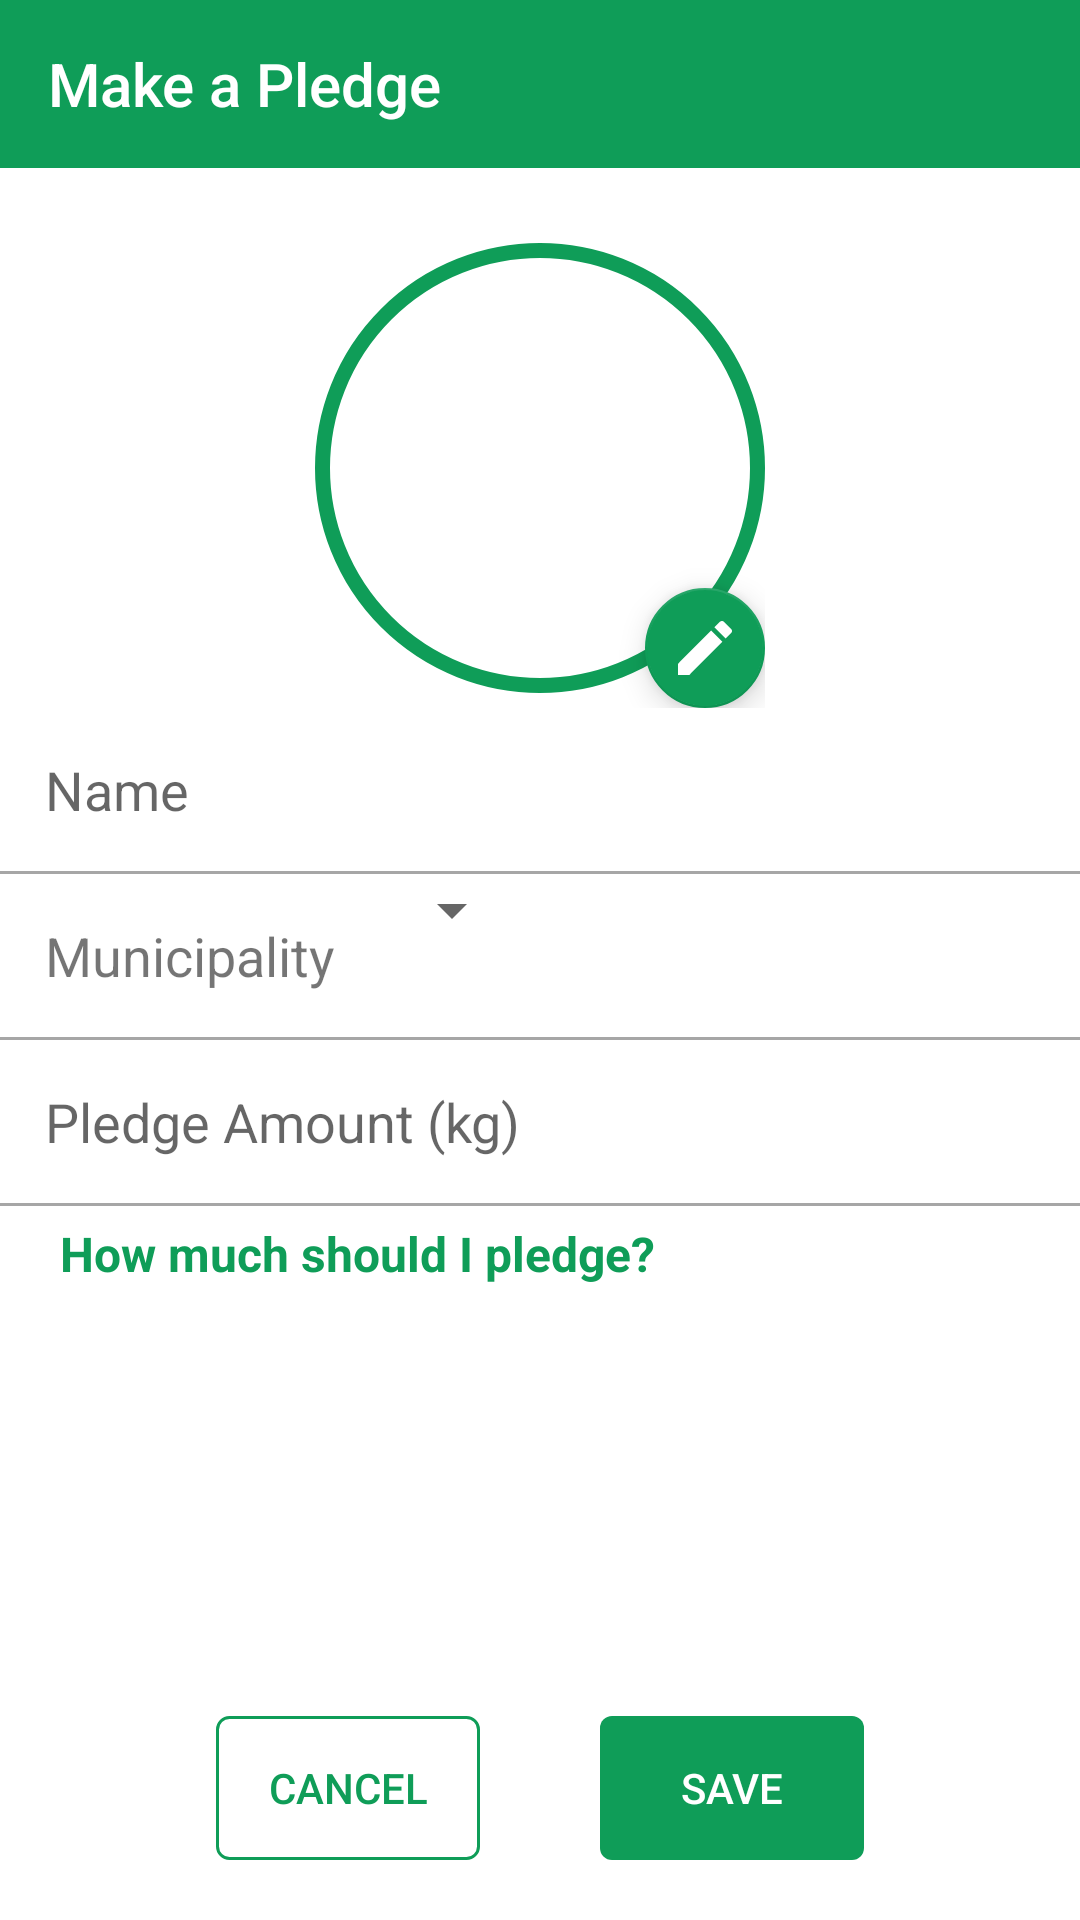

Point at icon controls on the screen. Image size 1080px×1920px, points as [x,y].
edit: [705,648]
